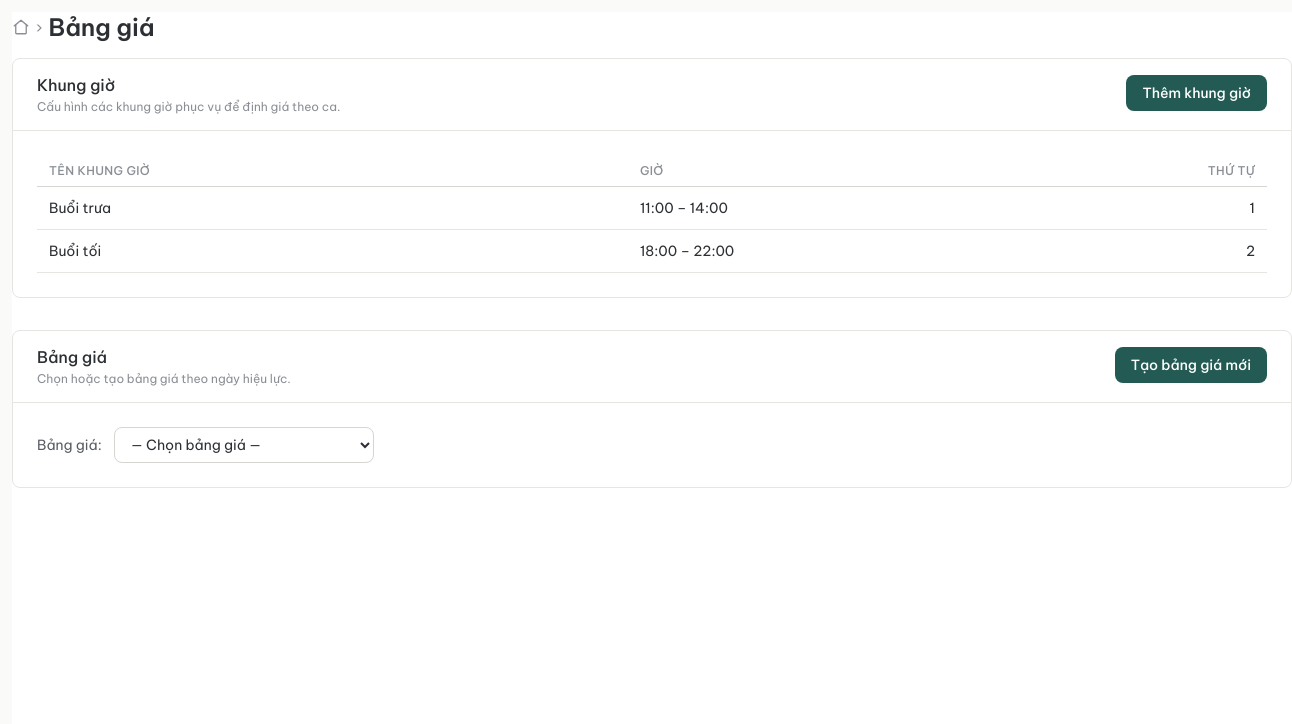
Test case: PricingPage — version selector and price matrix › shows empty state when selected version has no cells
Select "Giá lễ (2026-04-30)" in the dropdown at (244, 445), box [114, 427, 374, 463]
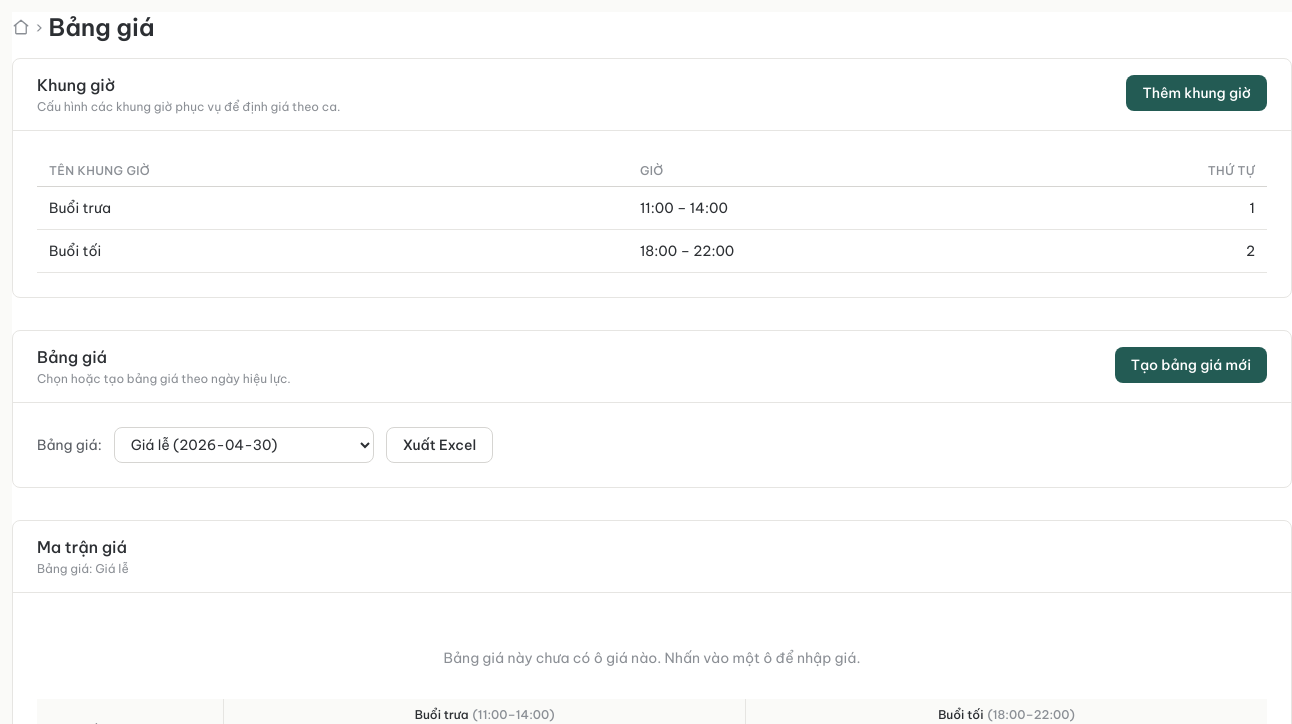
Result: the text "Bảng giá này chưa có ô giá nào. Nhấn vào một ô để nhập giá." is shown at [444, 649, 860, 667]
